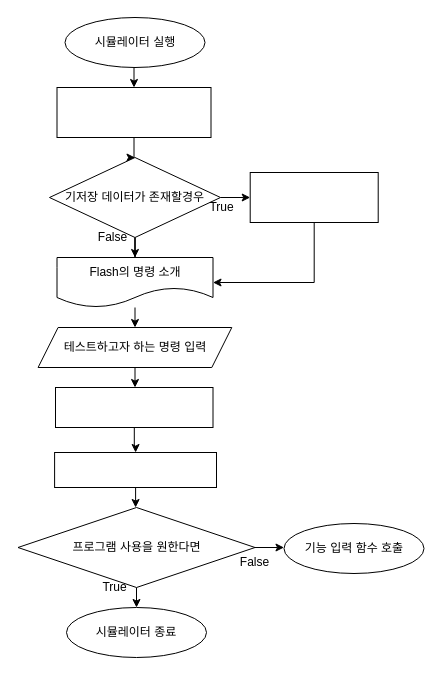
Image size: 441x675. Some labels were removed from this diagram. The centre of each missing label's shape, as x and y in pixels:
기능 입력 함수 실행: pixel 133 112
입력된 기능 함수 실행: pixel 133 407
자동 저장 함수 실행: pixel 135 470
저장된 파일의 Memory Size, Table, Data 복구: pixel 313 197
